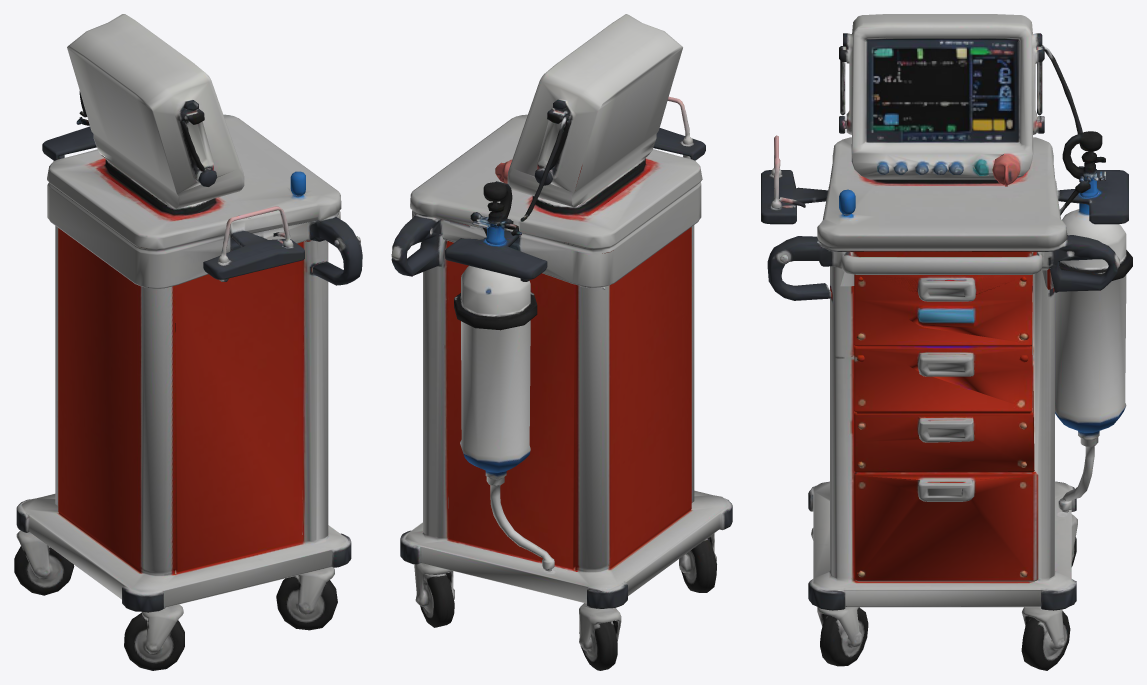
The model's file is crash_cart.glb.
The picture shows the model from 3 angles, left to right: view 1: azimuth 30°, elevation 25°; view 2: azimuth 150°, elevation 25°; view 3: azimuth 270°, elevation 25°; orthographic projection. The views are drawn at different scales.
Parts seen in each view (by area): view 1: tripo_node_55dd74e9-c01b-4f24-833a-696c9632e18d; view 2: tripo_node_55dd74e9-c01b-4f24-833a-696c9632e18d; view 3: tripo_node_55dd74e9-c01b-4f24-833a-696c9632e18d.
Boxes of the visible parts, left/top/right/bottom form: tripo_node_55dd74e9-c01b-4f24-833a-696c9632e18d: left=14, top=14, right=362, bottom=670; tripo_node_55dd74e9-c01b-4f24-833a-696c9632e18d: left=391, top=14, right=732, bottom=670; tripo_node_55dd74e9-c01b-4f24-833a-696c9632e18d: left=761, top=14, right=1132, bottom=670.
Bounding box in the file's own units: 0.4051 × 1 × 0.5695.
1 material, 1 textured.
